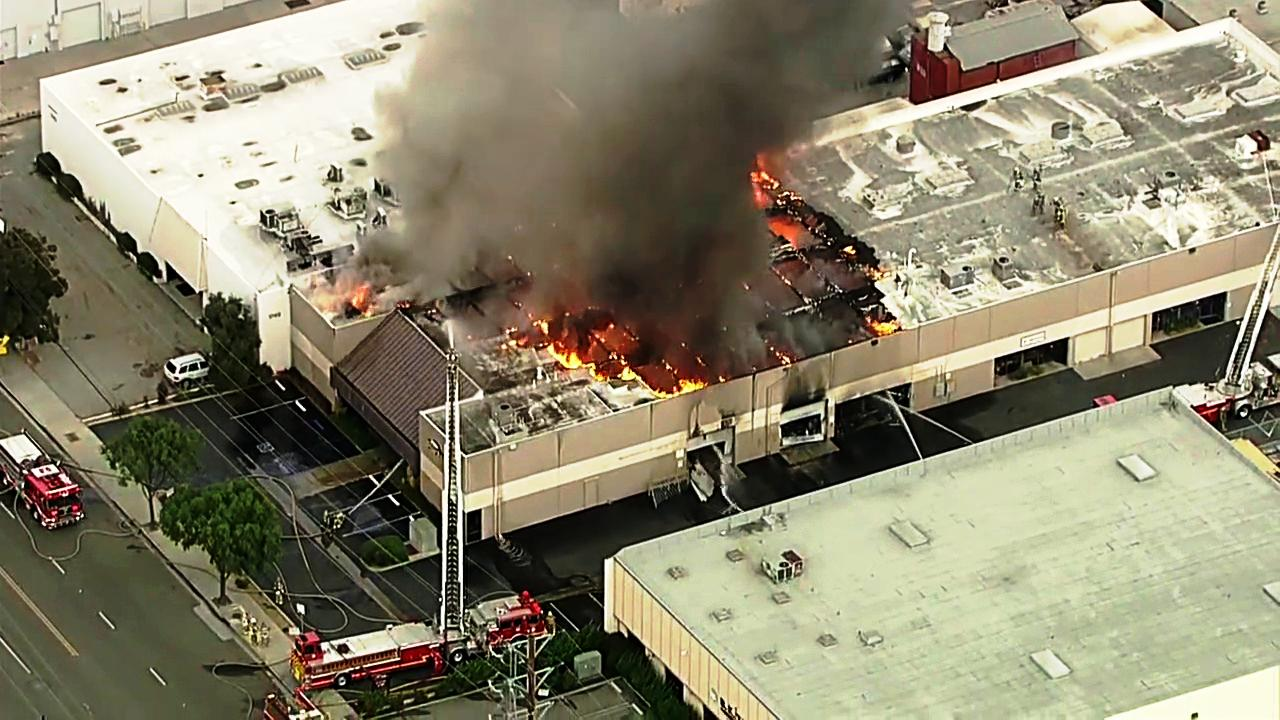smoke: (451, 0, 688, 258)
